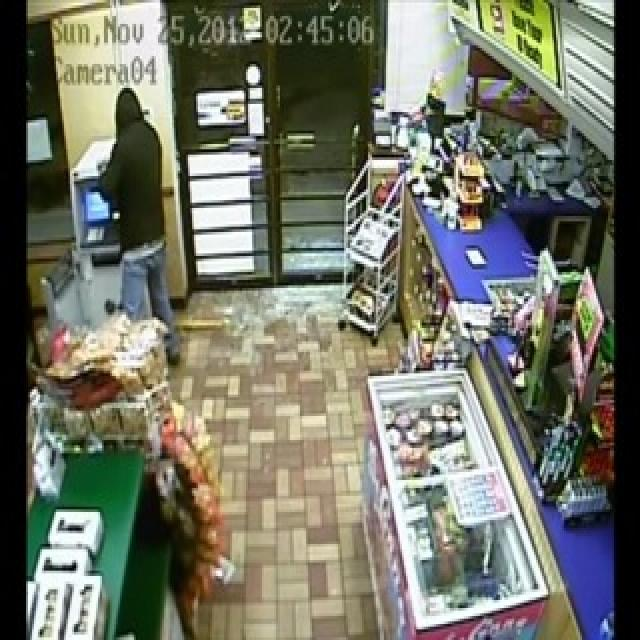thief: (96, 97, 209, 377)
